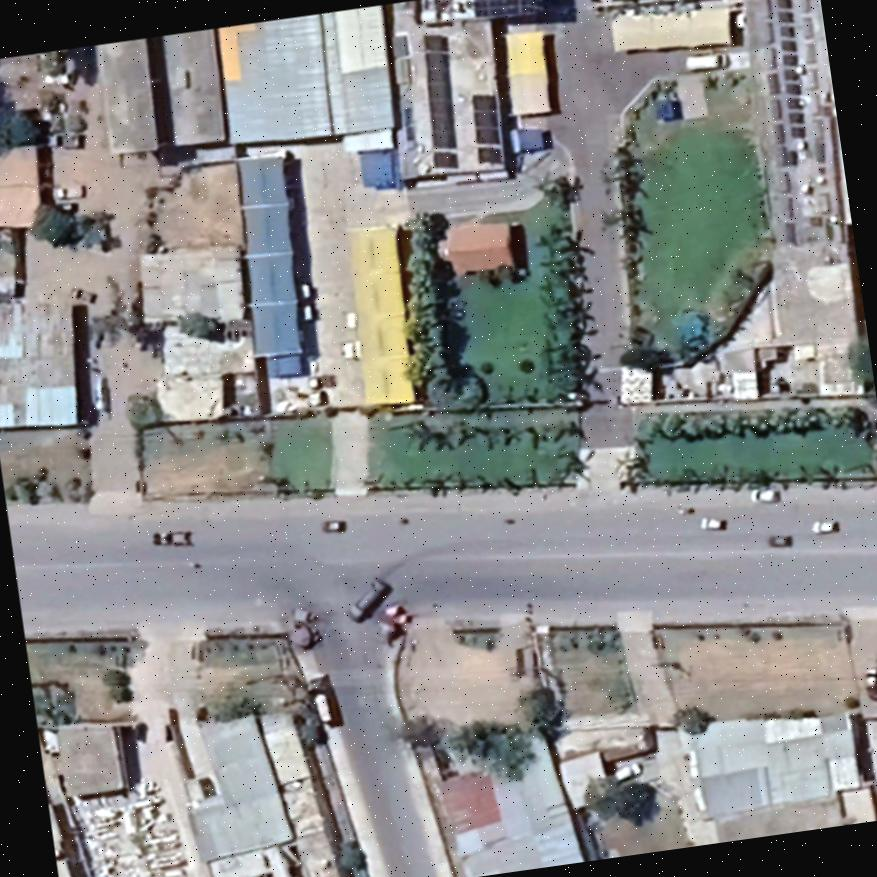Solarpanel: (417, 31, 459, 175), (468, 88, 510, 165), (474, 0, 554, 28)
